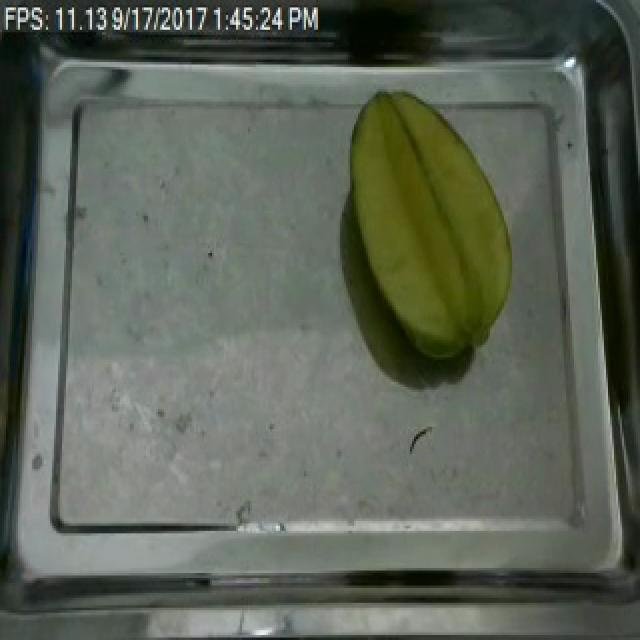fruit: (336, 79, 524, 377)
